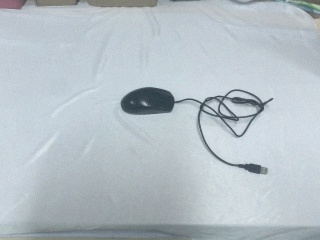mouse: (120, 85, 176, 116)
